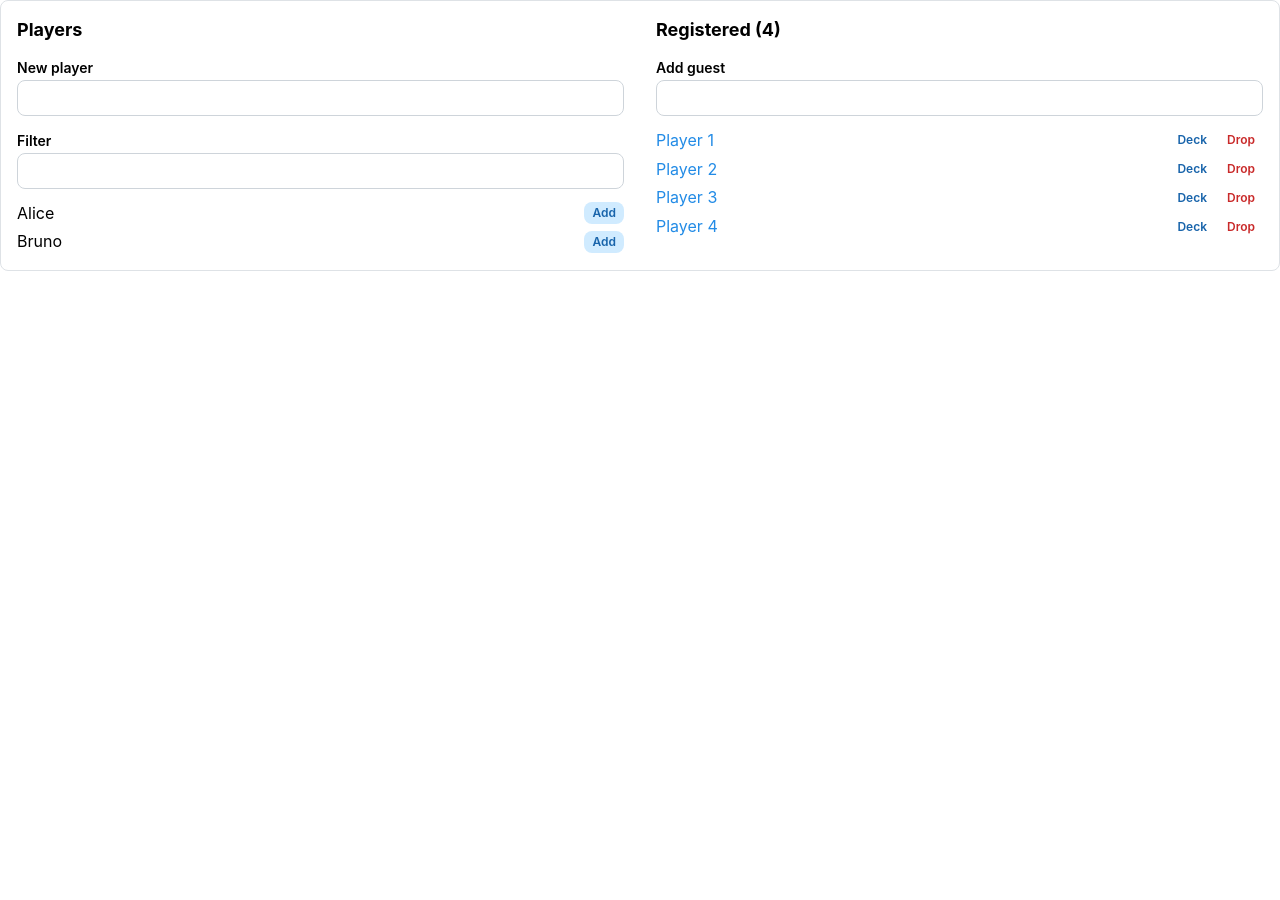
Test case: RegistrationPanel while running › keeps the row with the Dropped badge after confirming
What coordinates should you click on to do the following:
click the button with aria-label "Drop Player 2"
I would click on:
 (1241, 169)
Its box is top-left (1219, 158), bottom-right (1263, 180).
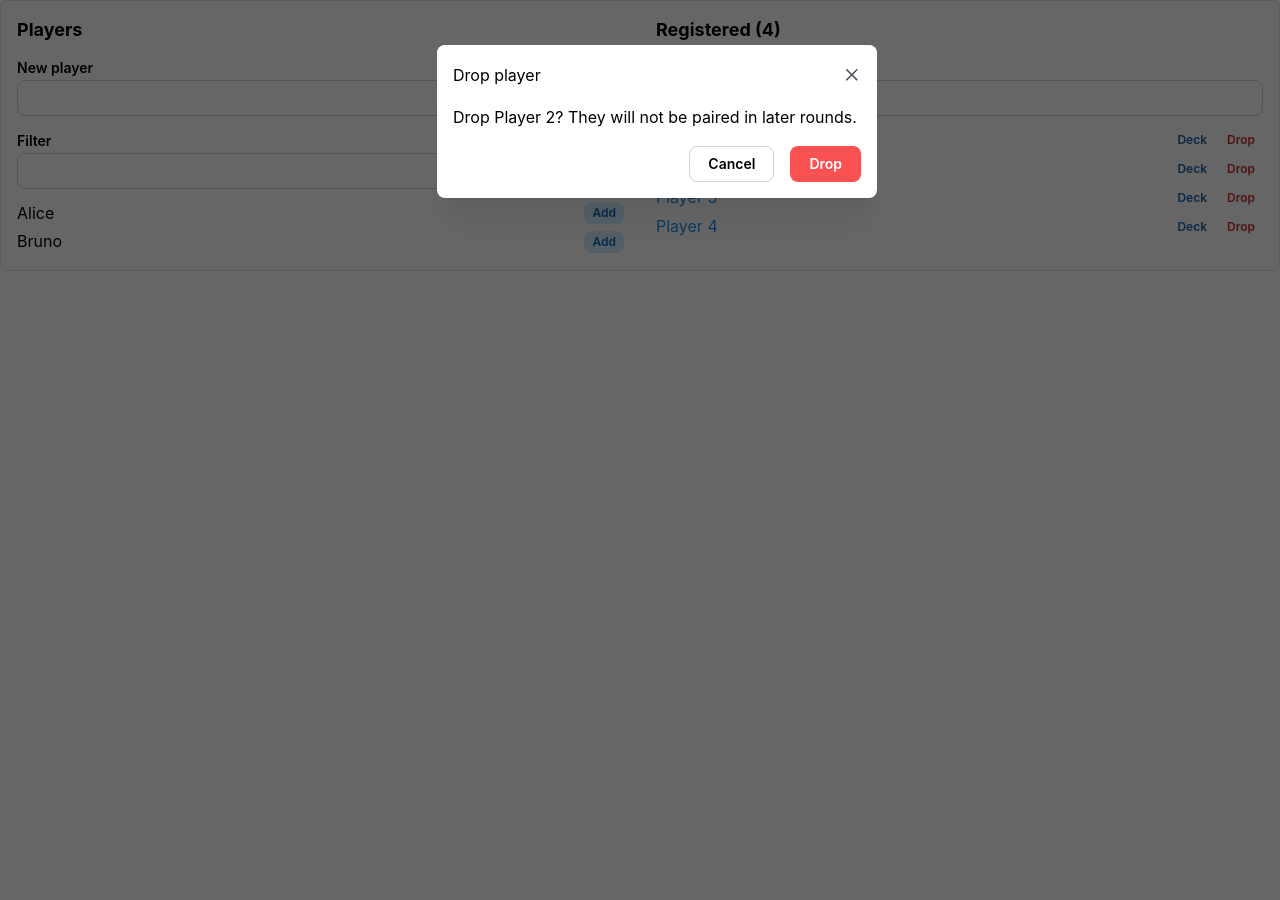
What coordinates should you click on to do the following:
click the button "Drop"
I would click on:
 (826, 164)
Its box is top-left (790, 146), bottom-right (861, 182).
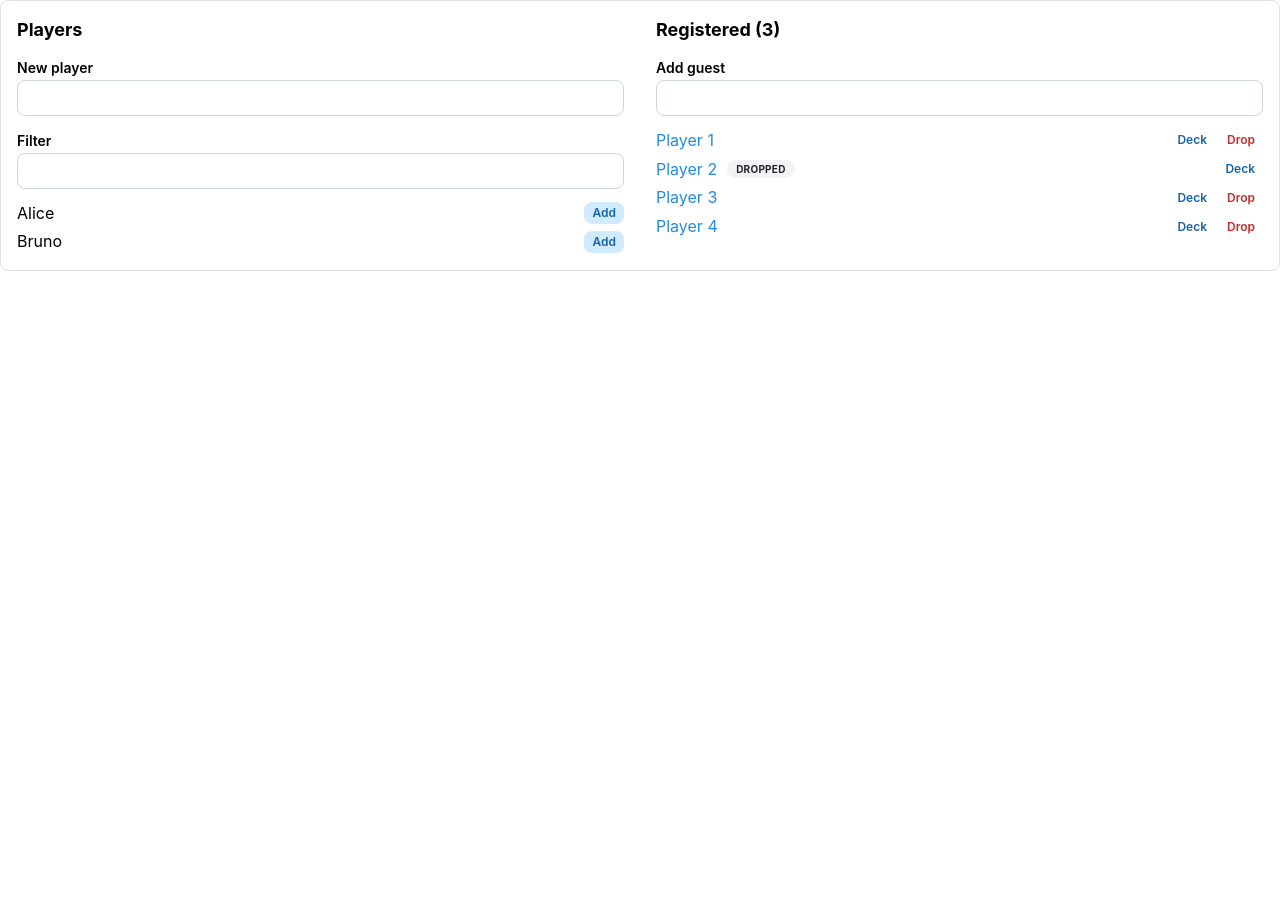
Now the text "Dropped" is shown, box top-left (736, 161), bottom-right (786, 177)
Now the buttons read "Deck", in this order, box top-left (1217, 158), bottom-right (1263, 180)
Now the heading "Registered (3)" is shown, box top-left (656, 19), bottom-right (780, 40)
